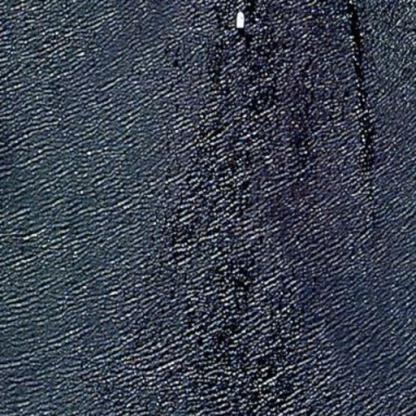ship: (232, 0, 243, 11)
